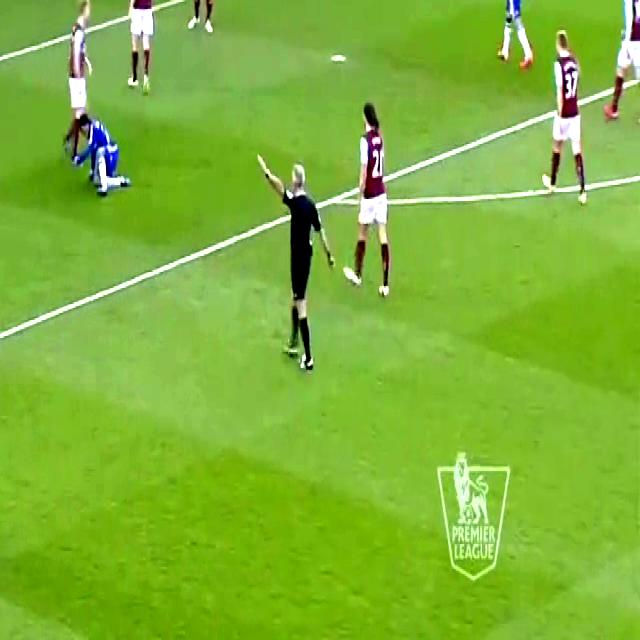referee: (242, 142, 339, 381)
soccer-player: (339, 87, 394, 310), (540, 22, 597, 211), (61, 0, 95, 180), (73, 118, 131, 212), (481, 0, 544, 78), (602, 0, 640, 128), (118, 0, 155, 100), (181, 0, 236, 48)
